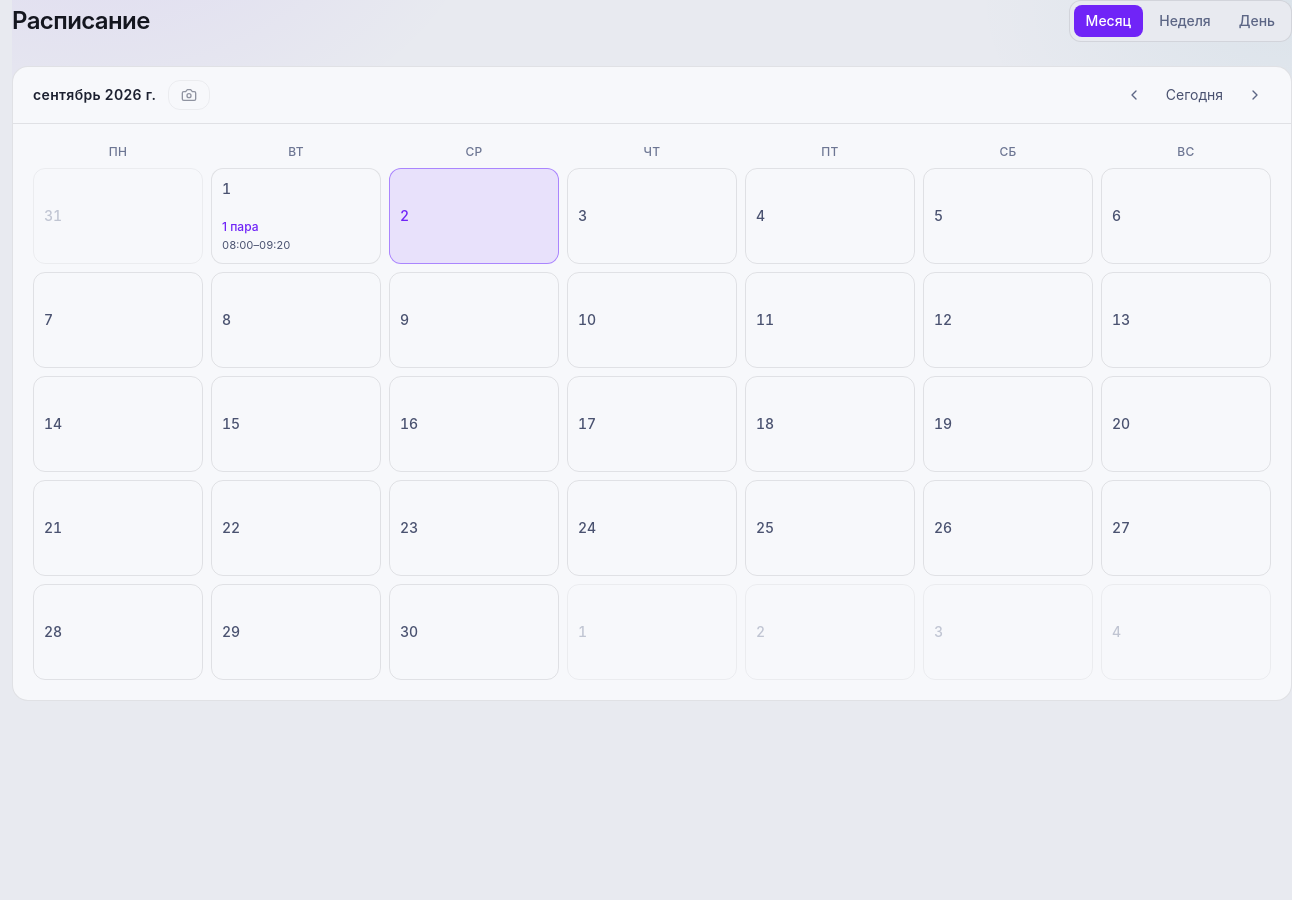
Test: SchedulePage › shows the week table in the regular week view
Step 1. Click the tab "Неделя" → (1185, 21), box [1147,5,1223,37]
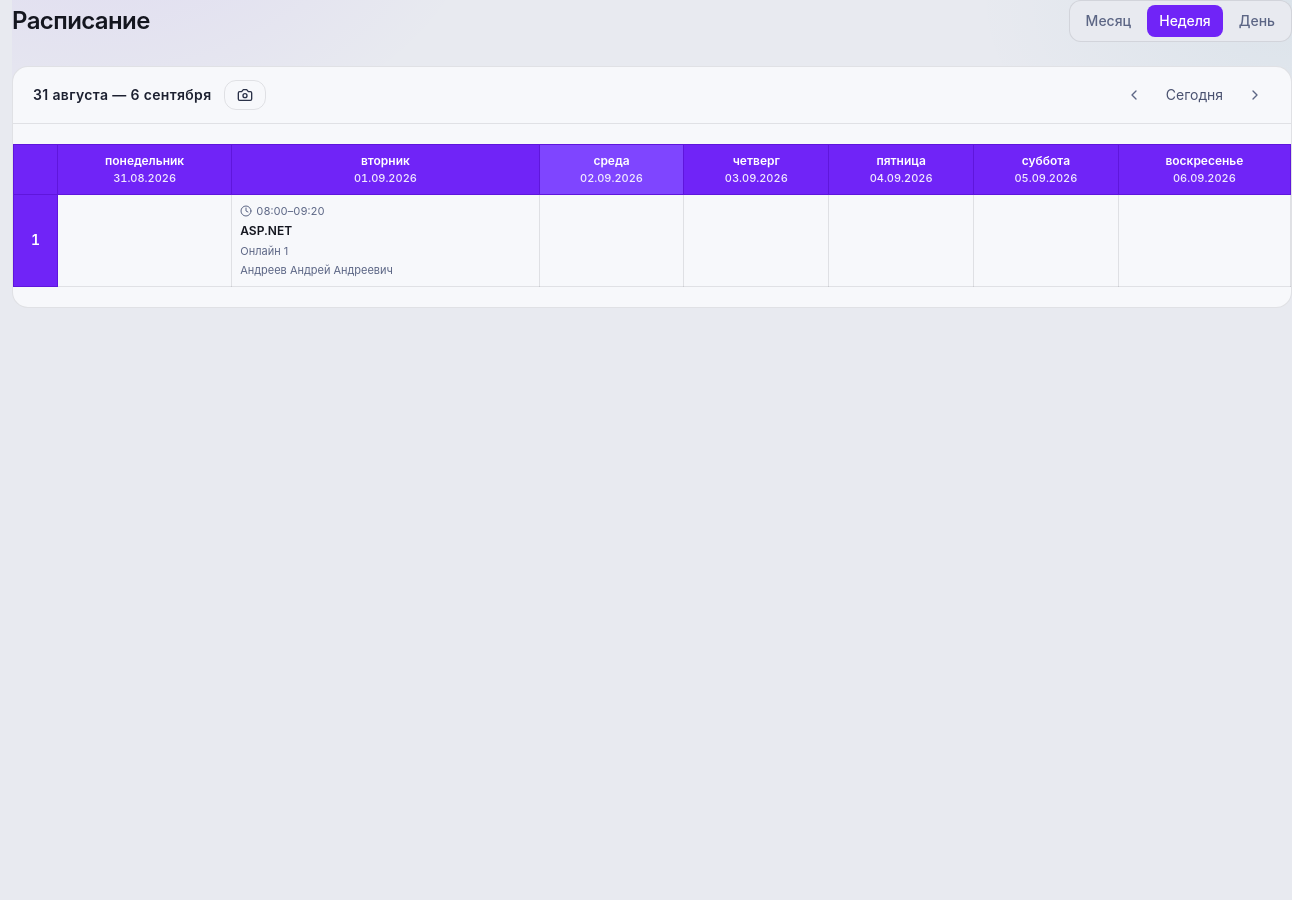
Result: the column heading "Понедельник 31.08.2026" is shown at [58,144,232,194]
Result: the text "ASP.NET" is shown at [240,223,292,238]
Result: the text "Андреев Андрей Андреевич" is shown at [240,263,393,277]
